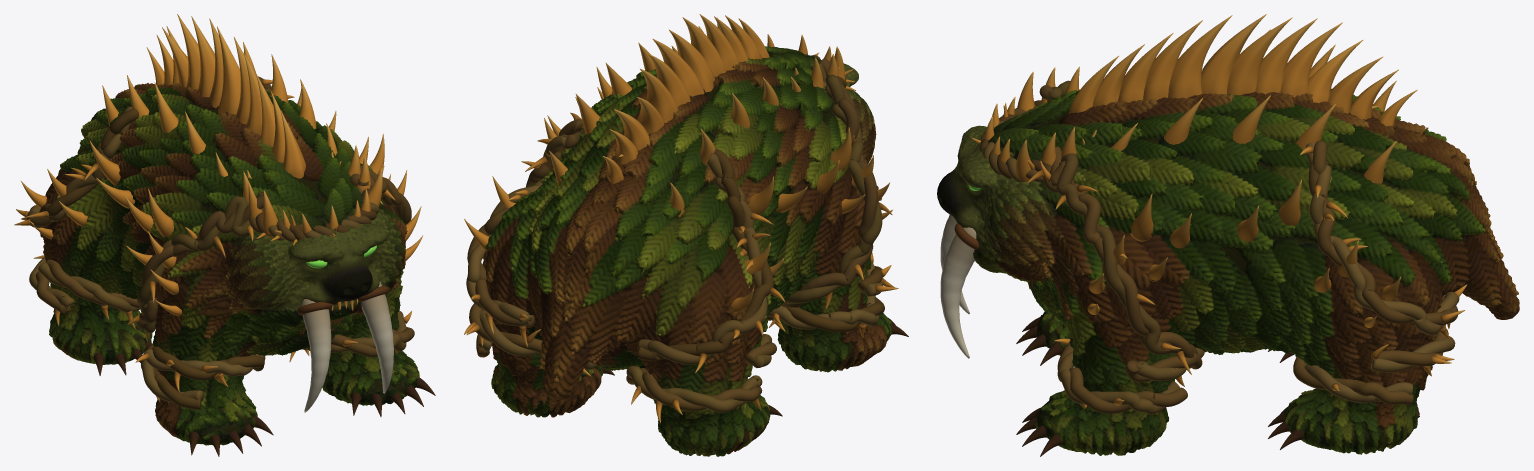
Rendered from briarmaw-sculpt.glb.
The picture shows the model from 3 angles, left to right: view 1: azimuth 30°, elevation 25°; view 2: azimuth 150°, elevation 25°; view 3: azimuth 270°, elevation 25°; orthographic projection. The views are drawn at different scales.
Parts seen in each view (by area): view 1: briarmaw_sculpt; view 2: briarmaw_sculpt; view 3: briarmaw_sculpt.
Boxes of the visible parts, x1,y1,x2,y2 form: briarmaw_sculpt: [14, 14, 435, 456]; briarmaw_sculpt: [464, 14, 908, 456]; briarmaw_sculpt: [937, 14, 1519, 456].
Bounding box in the file's own units: 1.73 × 1.92 × 2.66.
